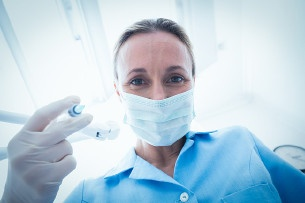Mask: (114, 64, 197, 147)
